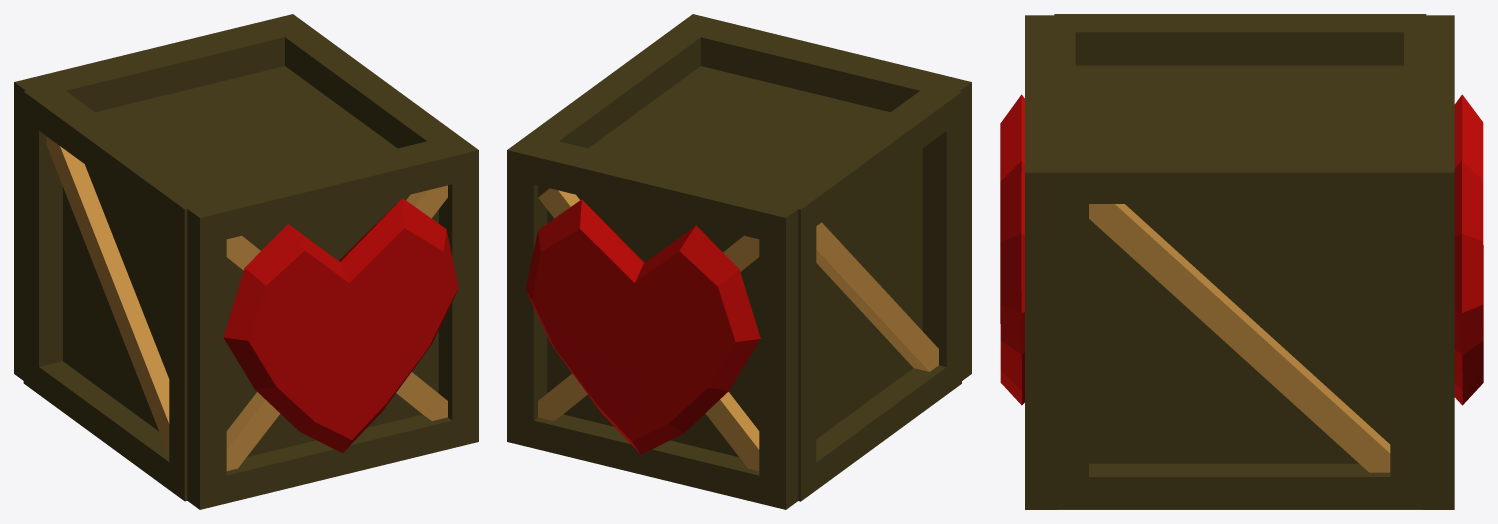
The model's file is PowerUpHeal.fbx.
The picture shows the model from 3 angles, left to right: view 1: azimuth 30°, elevation 25°; view 2: azimuth 150°, elevation 25°; view 3: azimuth 270°, elevation 25°; orthographic projection. The views are drawn at different scales.
Visible parts, largest first — view 1: PowerUpVida; view 2: PowerUpVida; view 3: PowerUpVida.
Boxes of the visible parts, x1,y1,x2,y2 form: PowerUpVida: [14, 14, 478, 509]; PowerUpVida: [507, 14, 971, 509]; PowerUpVida: [1000, 14, 1483, 509].
Bounding box in the file's own units: 202 × 200 × 260.
